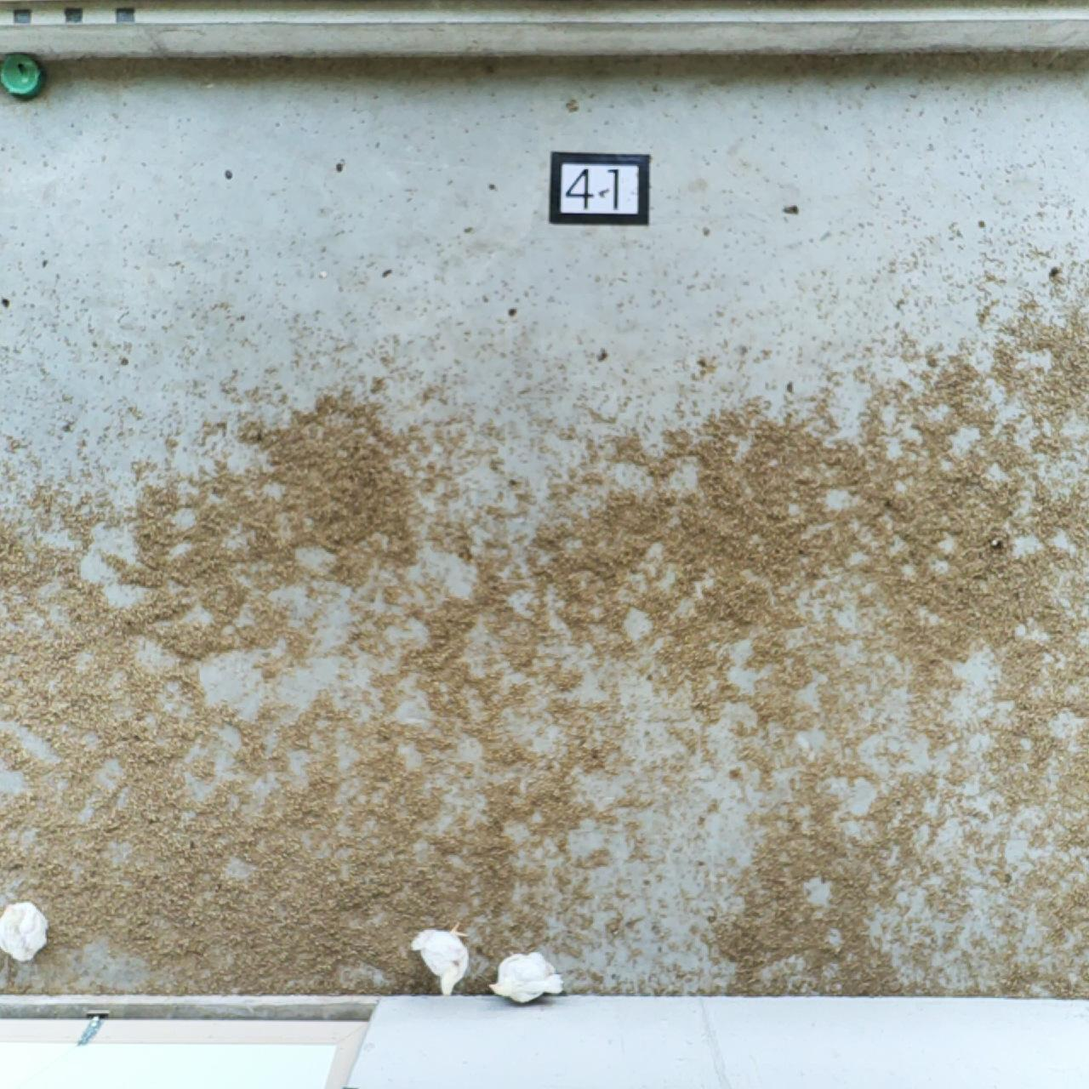chicken: (413, 923, 470, 997), (489, 951, 563, 1003), (1, 902, 50, 967)
